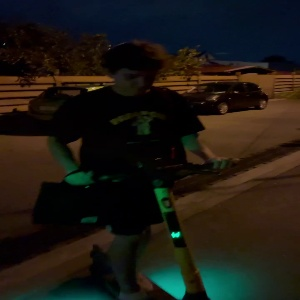human on a scooter: (29, 38, 236, 300)
